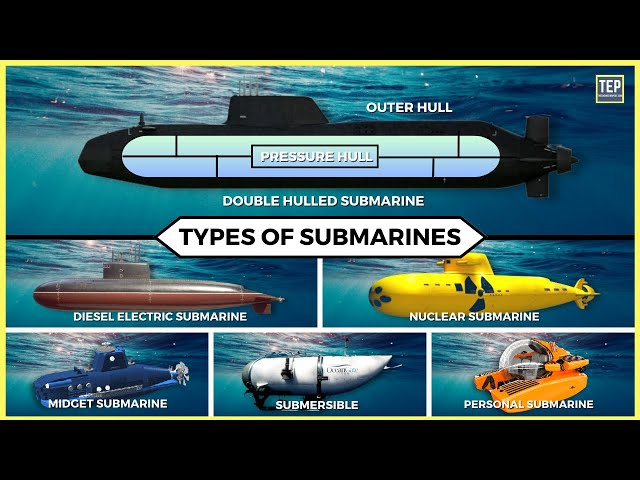Submarine: (79, 95, 575, 197), (370, 253, 596, 319), (31, 257, 282, 314), (242, 352, 390, 414), (37, 345, 186, 405), (475, 338, 590, 412)
